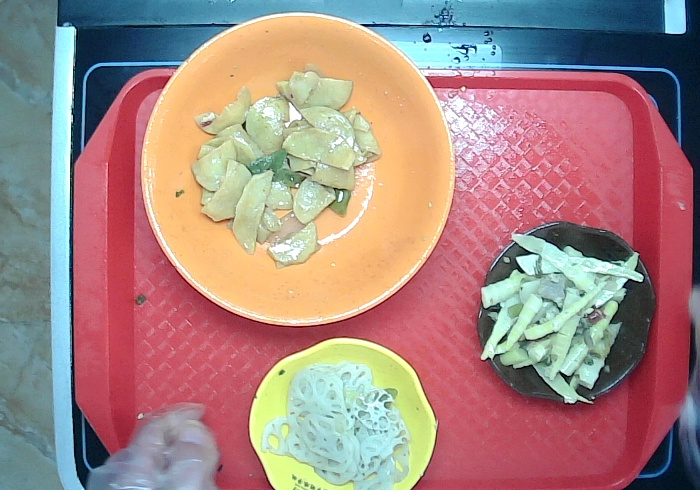YKMZ-Huang_Se_Ao_Bian_Wan: (241, 335, 442, 490)
YKMZ-Ju_Se_Tang_Wan: (136, 11, 457, 337)
YKMZ-Ka_Fei_Ao_Bian_Wan: (474, 215, 660, 409)
